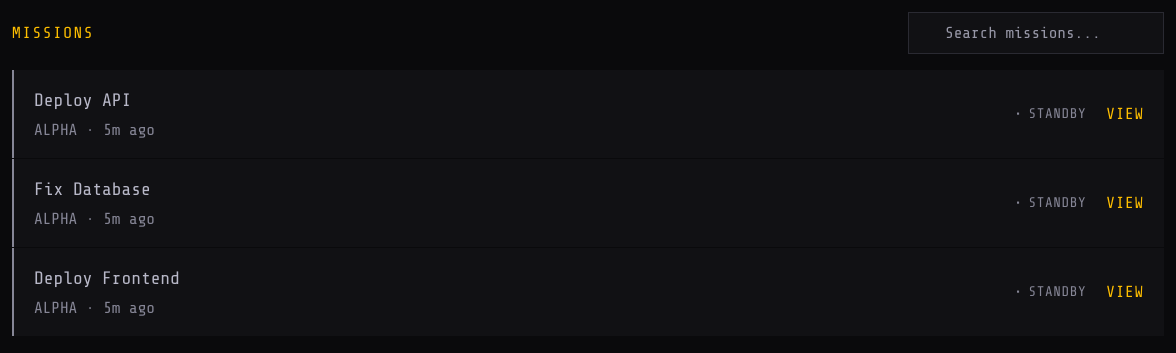
Test: MissionList › search filtering › filters missions by title search
This screenshot has width=1176, height=353.
Step 1. Type "Deploy" into the field with placeholder "Search missions..." → (1036, 33), box [908,12,1164,54]
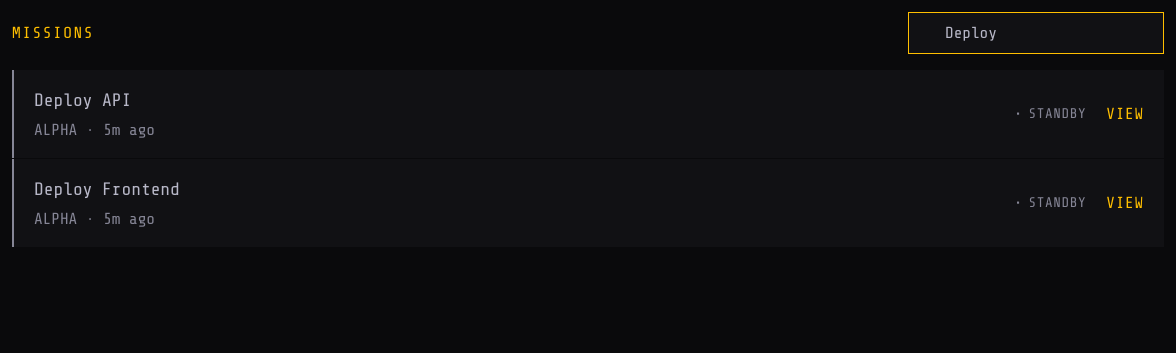
Expected: the text "Deploy API" is shown, [34,86,131,114]
Result: the text "Fix Database" is gone
